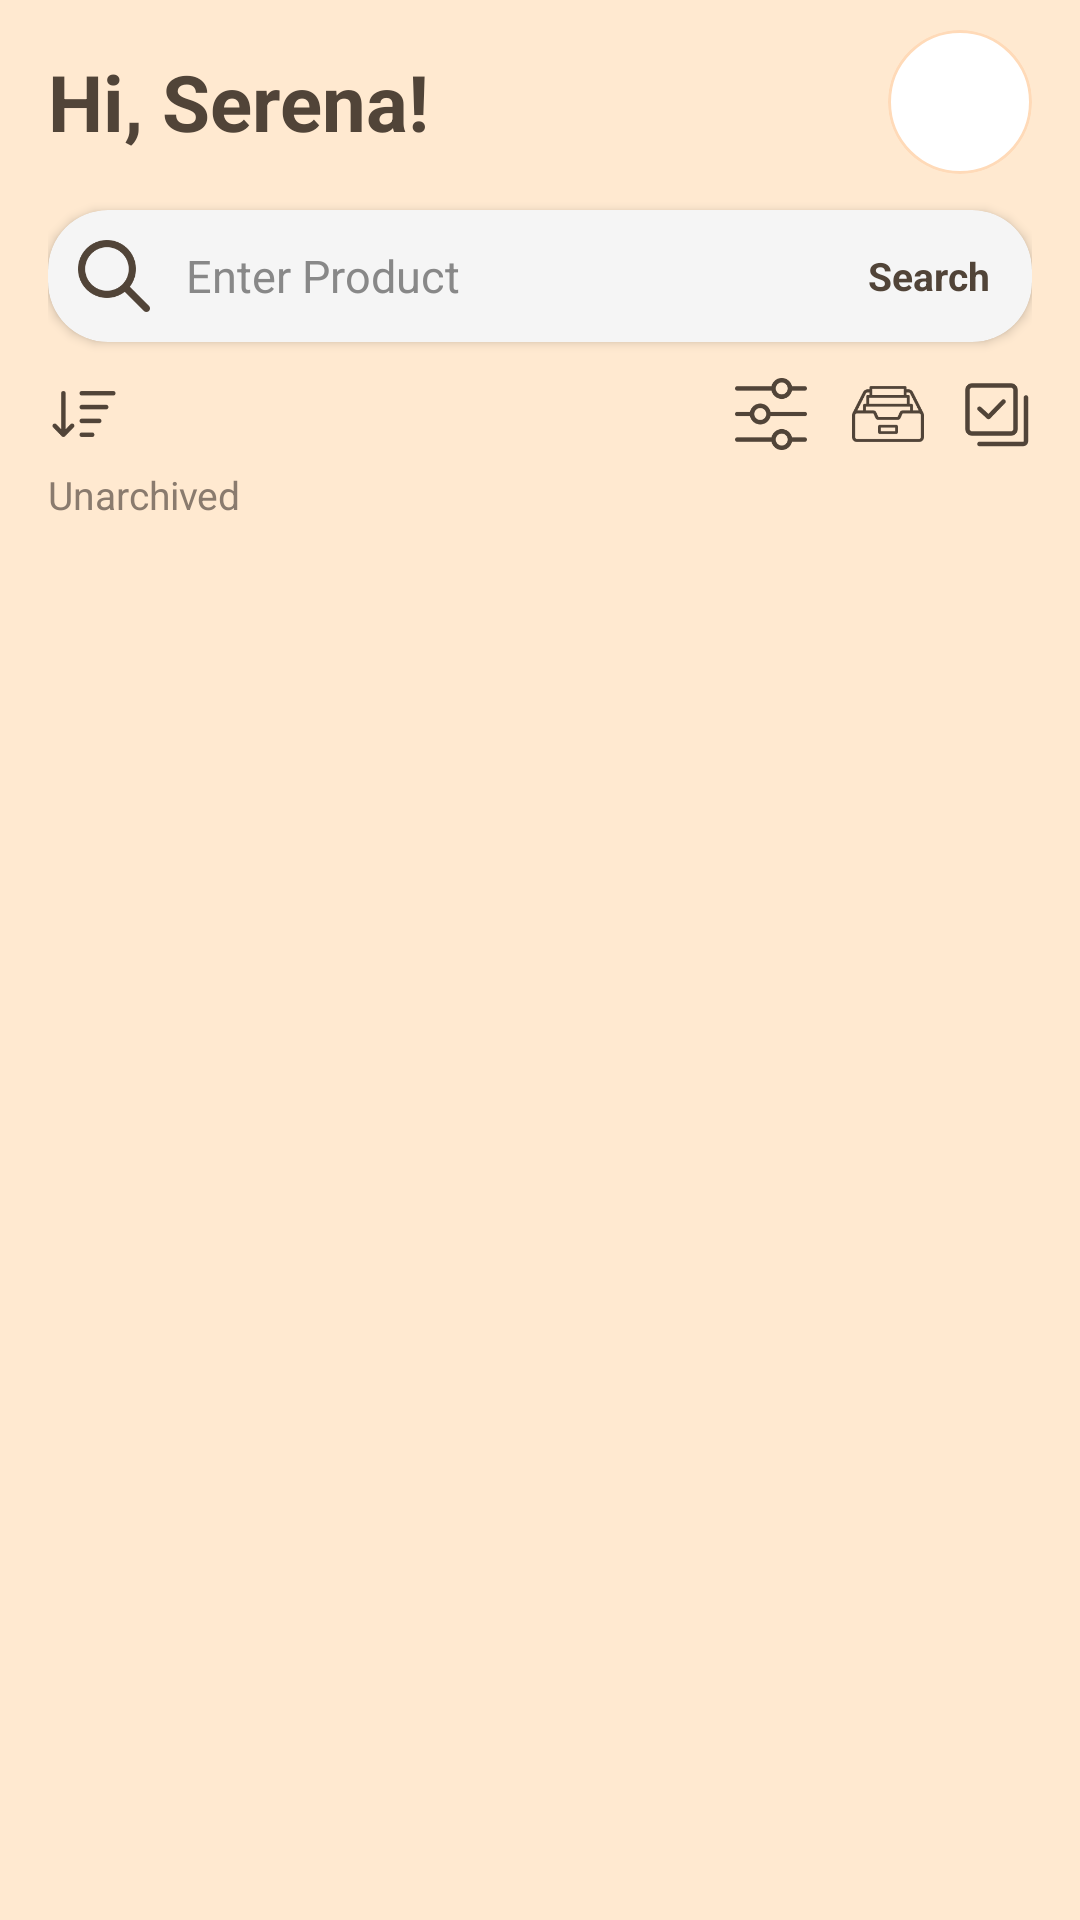

Locate icon controls on the screen. Image size 1080px×1920px, boxes as (x1, y1, x2, y2).
filter: (735, 378, 807, 450)
search: (78, 240, 150, 312)
select: (965, 383, 1029, 447)
sort: (52, 391, 116, 437)
